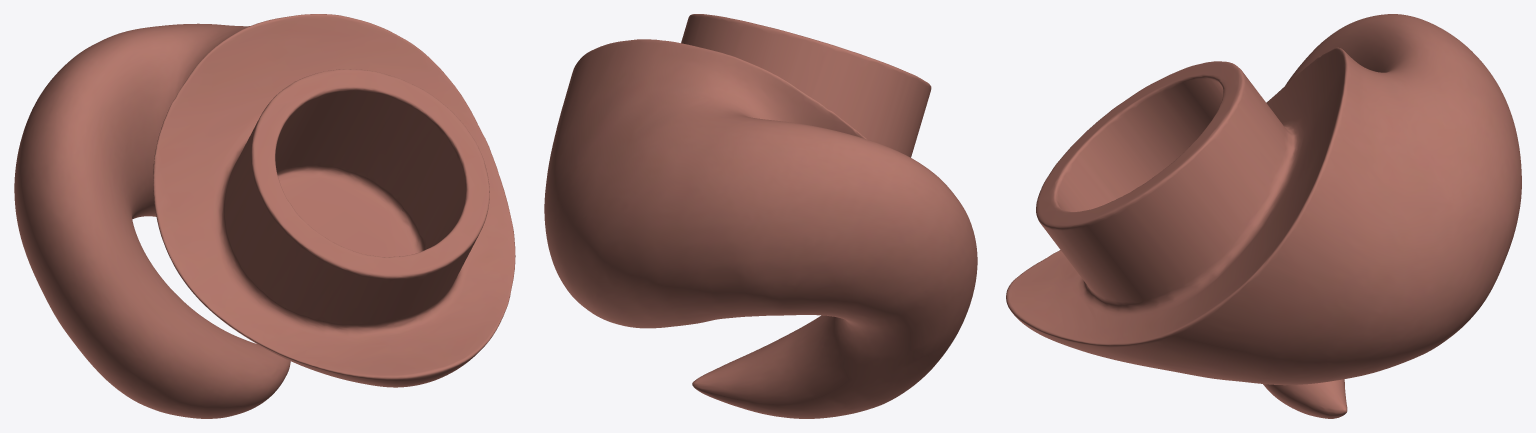
Rendered from Queue_Cochon.glb.
The picture shows the model from 3 angles, left to right: view 1: azimuth 30°, elevation 25°; view 2: azimuth 150°, elevation 25°; view 3: azimuth 270°, elevation 25°; orthographic projection.
Visible parts, largest first — view 1: Queue_Pig; view 2: Queue_Pig; view 3: Queue_Pig.
Boxes of the visible parts, <box> form: Queue_Pig: <box>14,14,515,418</box>; Queue_Pig: <box>544,14,977,418</box>; Queue_Pig: <box>1006,14,1521,418</box>.
Size of the model in its own units: 1.4 by 1.15 by 1.48.
